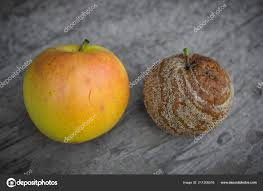apple: (23, 49, 129, 137)
damaged_apple: (141, 53, 238, 141)
